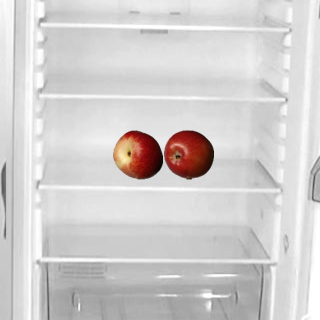Apple Braeburn: (163, 129, 213, 179)
Nectarine: (112, 129, 162, 179)
